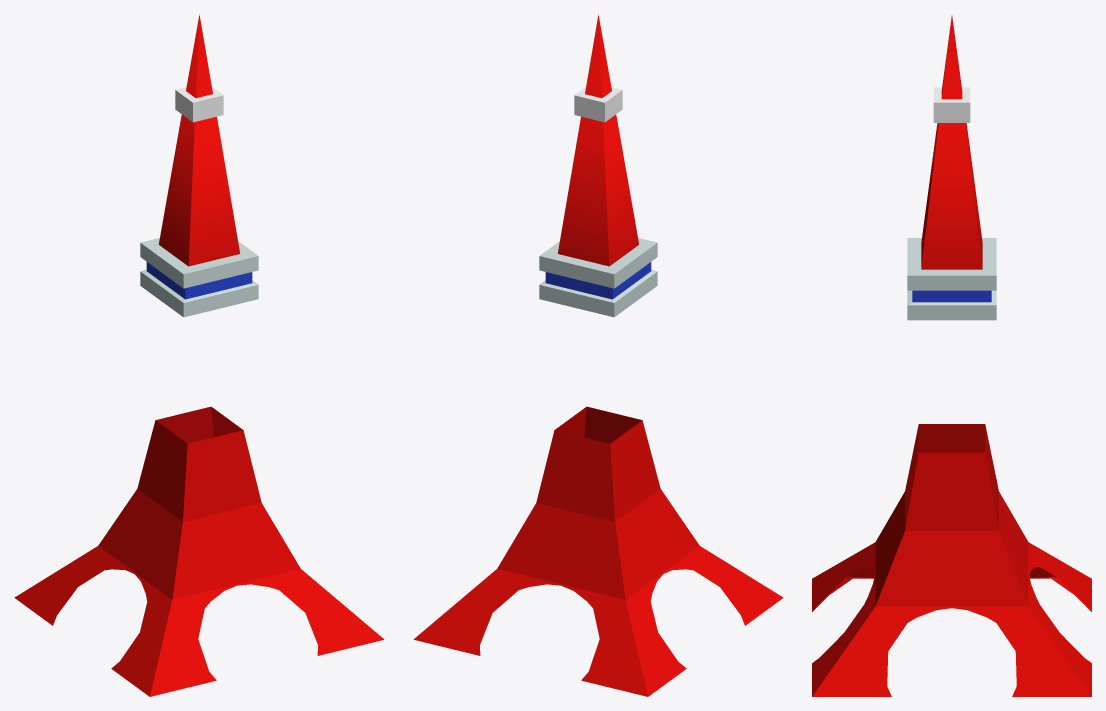
Rendered from 东京塔 (1).fbx.
The picture shows the model from 3 angles, left to right: view 1: azimuth 30°, elevation 25°; view 2: azimuth 150°, elevation 25°; view 3: azimuth 270°, elevation 25°; orthographic projection. The views are drawn at different scales.
Visible parts, largest first — view 1: Cube_0, object 2; view 2: Cube_0, object 2; view 3: Cube_0, object 2.
Part boxes in pixels (x1=…): Cube_0: x1=14, y1=406, x2=384, y2=696; object 2: x1=140, y1=14, x2=258, y2=317; Cube_0: x1=413, y1=406, x2=783, y2=696; object 2: x1=539, y1=14, x2=657, y2=317; Cube_0: x1=812, y1=424, x2=1091, y2=696; object 2: x1=907, y1=15, x2=996, y2=320.
Bounding box in the file's own units: 200 × 492 × 200.
